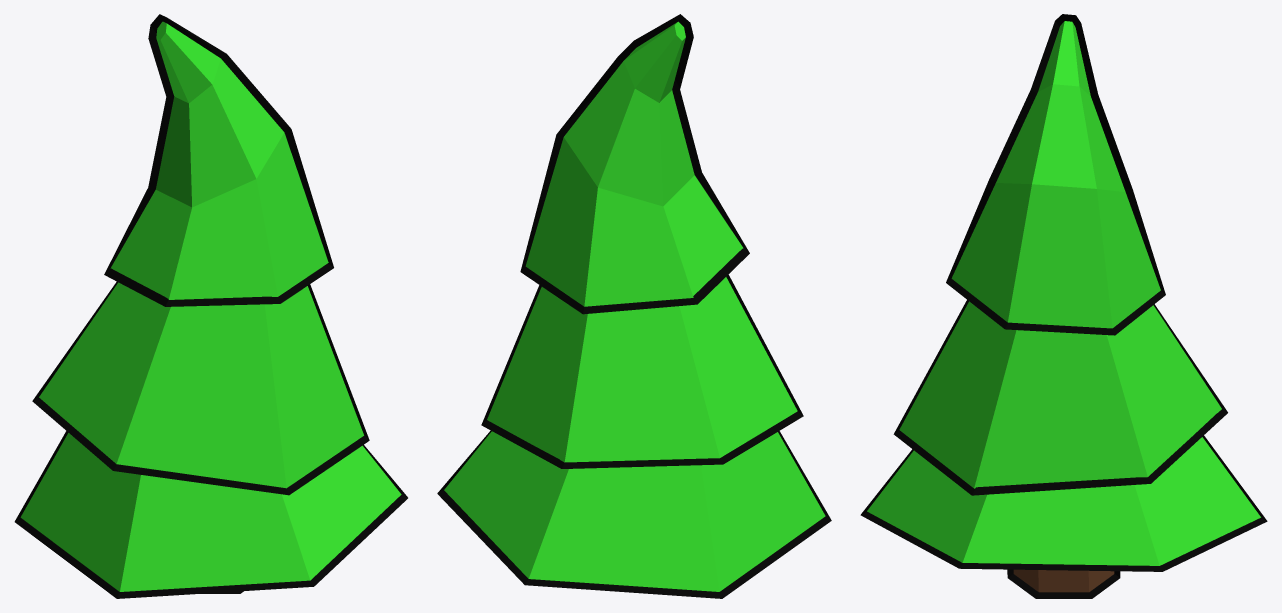
File: tree_1.fbx
The picture shows the model from 3 angles, left to right: view 1: azimuth 30°, elevation 25°; view 2: azimuth 150°, elevation 25°; view 3: azimuth 270°, elevation 25°; orthographic projection. The views are drawn at different scales.
Visible parts, largest first — view 1: tree_1, tree_1_outliner; view 2: tree_1, tree_1_outliner; view 3: tree_1, tree_1_outliner.
Boxes of the visible parts, x1,y1,x2,y2 form: tree_1: [20, 21, 401, 591]; tree_1_outliner: [14, 14, 407, 598]; tree_1: [444, 21, 825, 591]; tree_1_outliner: [437, 14, 831, 598]; tree_1: [867, 21, 1260, 592]; tree_1_outliner: [860, 14, 1267, 598].
Size of the model in its own units: 71.63 by 133 by 90.19.
